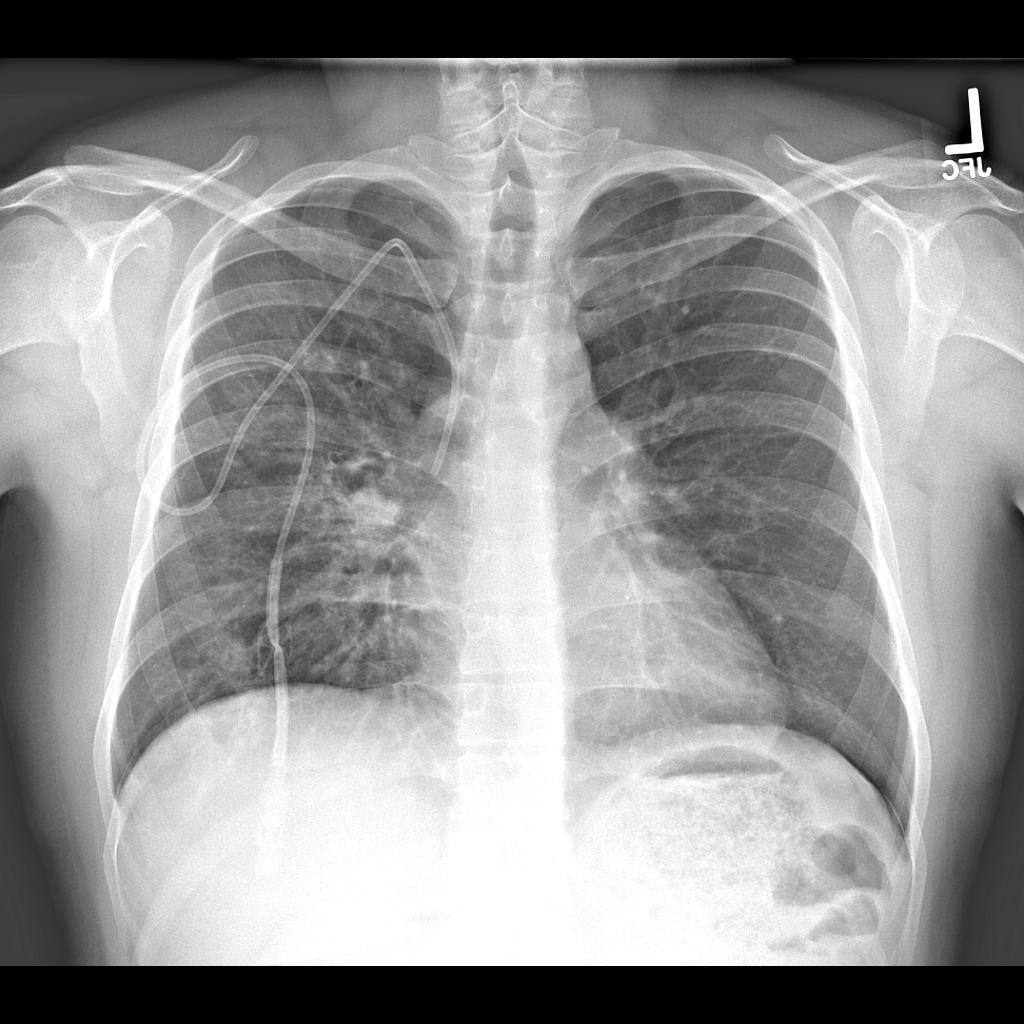Nodule: (347, 481, 406, 535)
